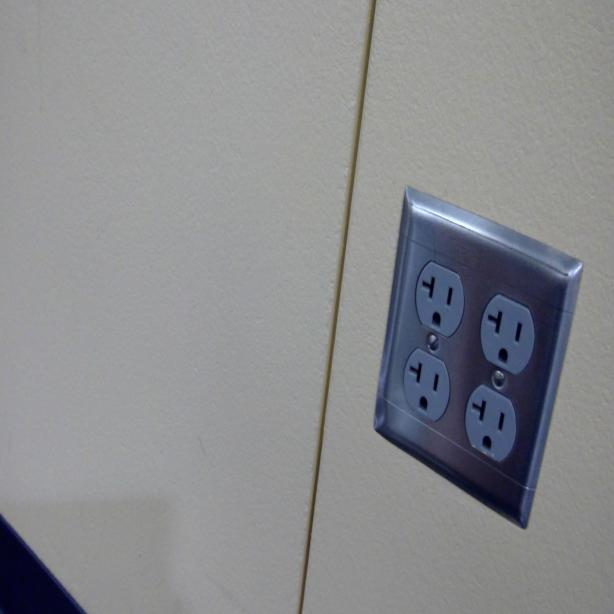typeb: (488, 294, 532, 376), (414, 262, 461, 332), (405, 355, 443, 420), (471, 388, 508, 454)
